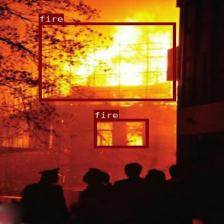fire: (38, 22, 175, 101), (93, 118, 148, 148)
